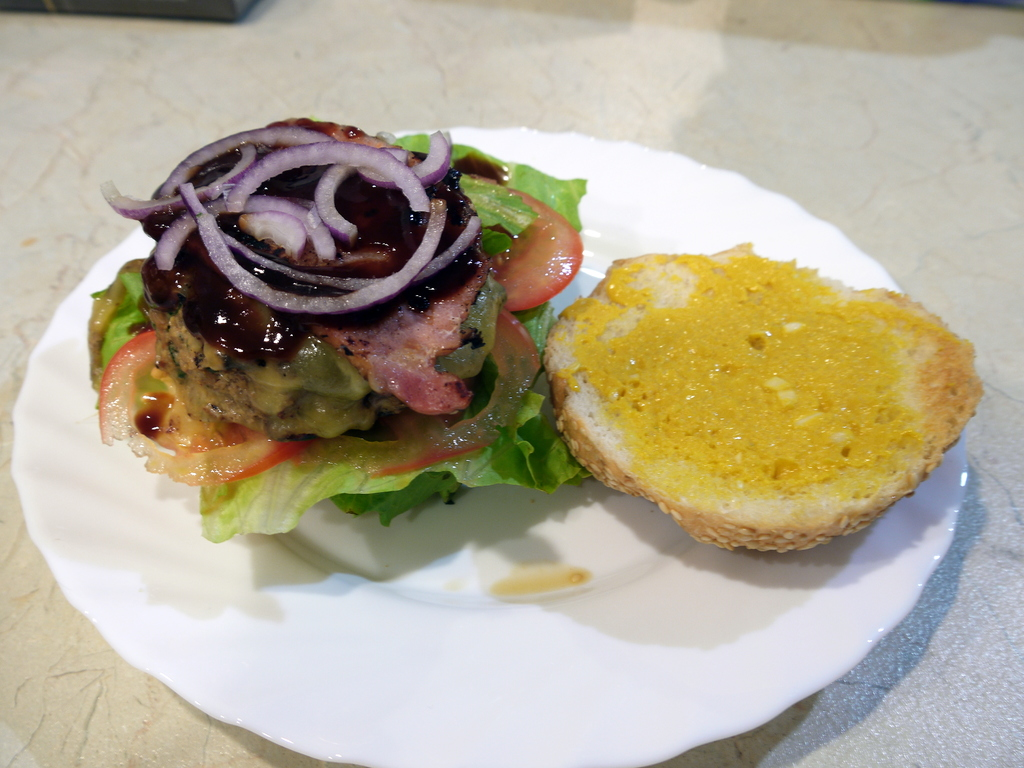Hamburger: (88, 115, 983, 552)
